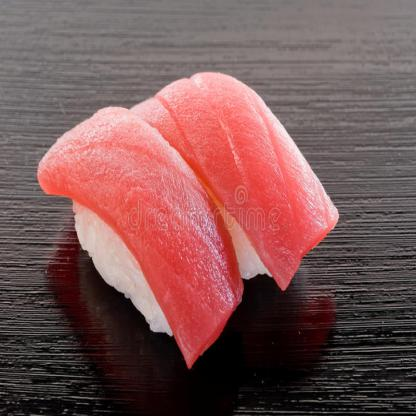maguro: (24, 102, 249, 379)
